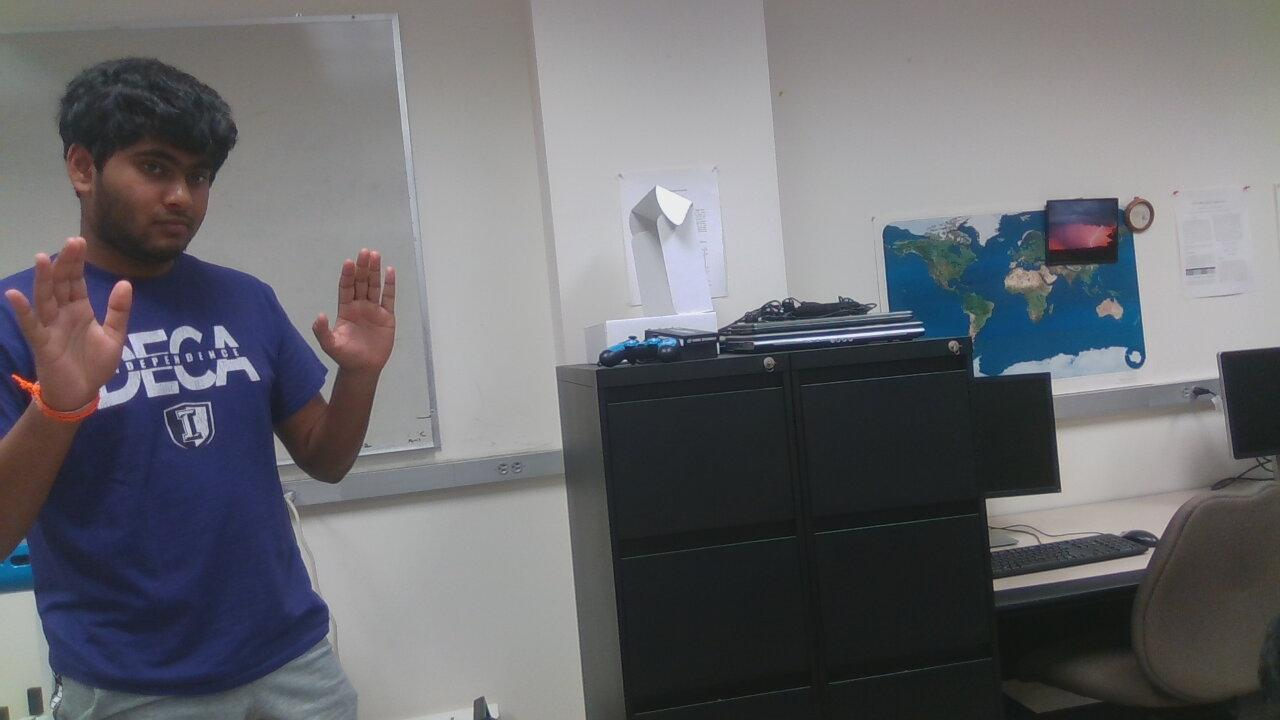hands: (8, 232, 132, 416), (303, 247, 427, 393)
